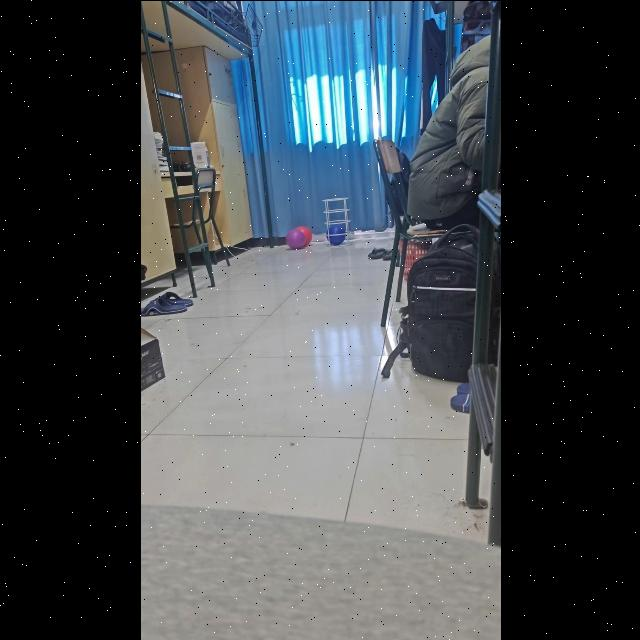B: (327, 224, 345, 244)
P: (288, 228, 304, 248)
R: (300, 224, 312, 240)
S: (322, 198, 351, 245)
